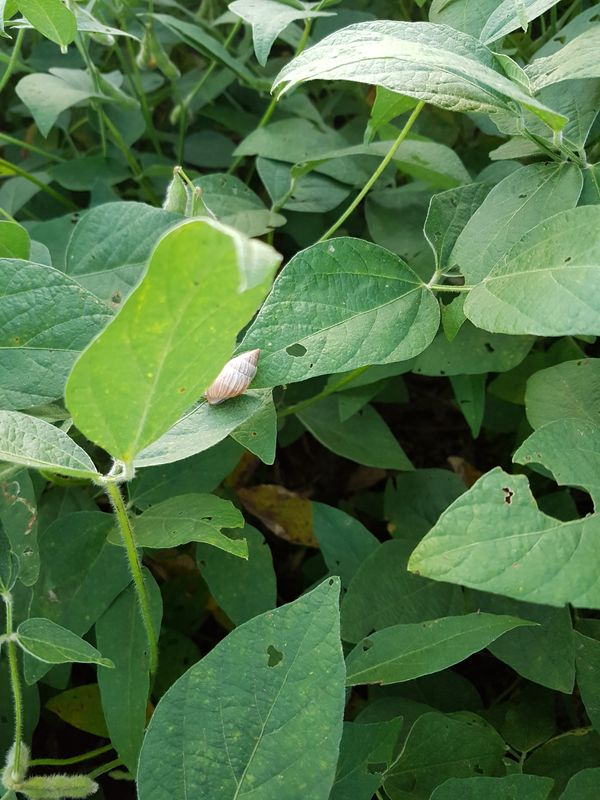Gastropoda: (189, 337, 275, 418)
